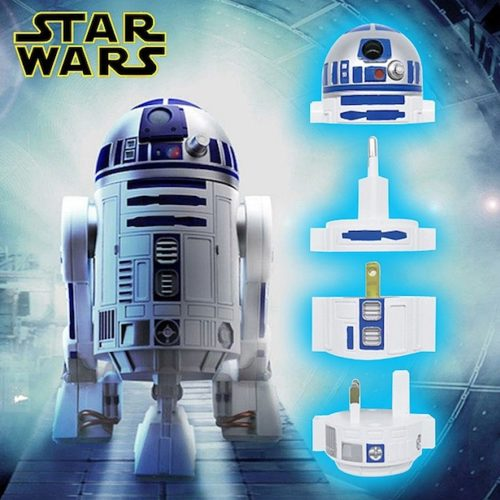r2d2: (51, 97, 282, 479), (310, 23, 435, 124)
